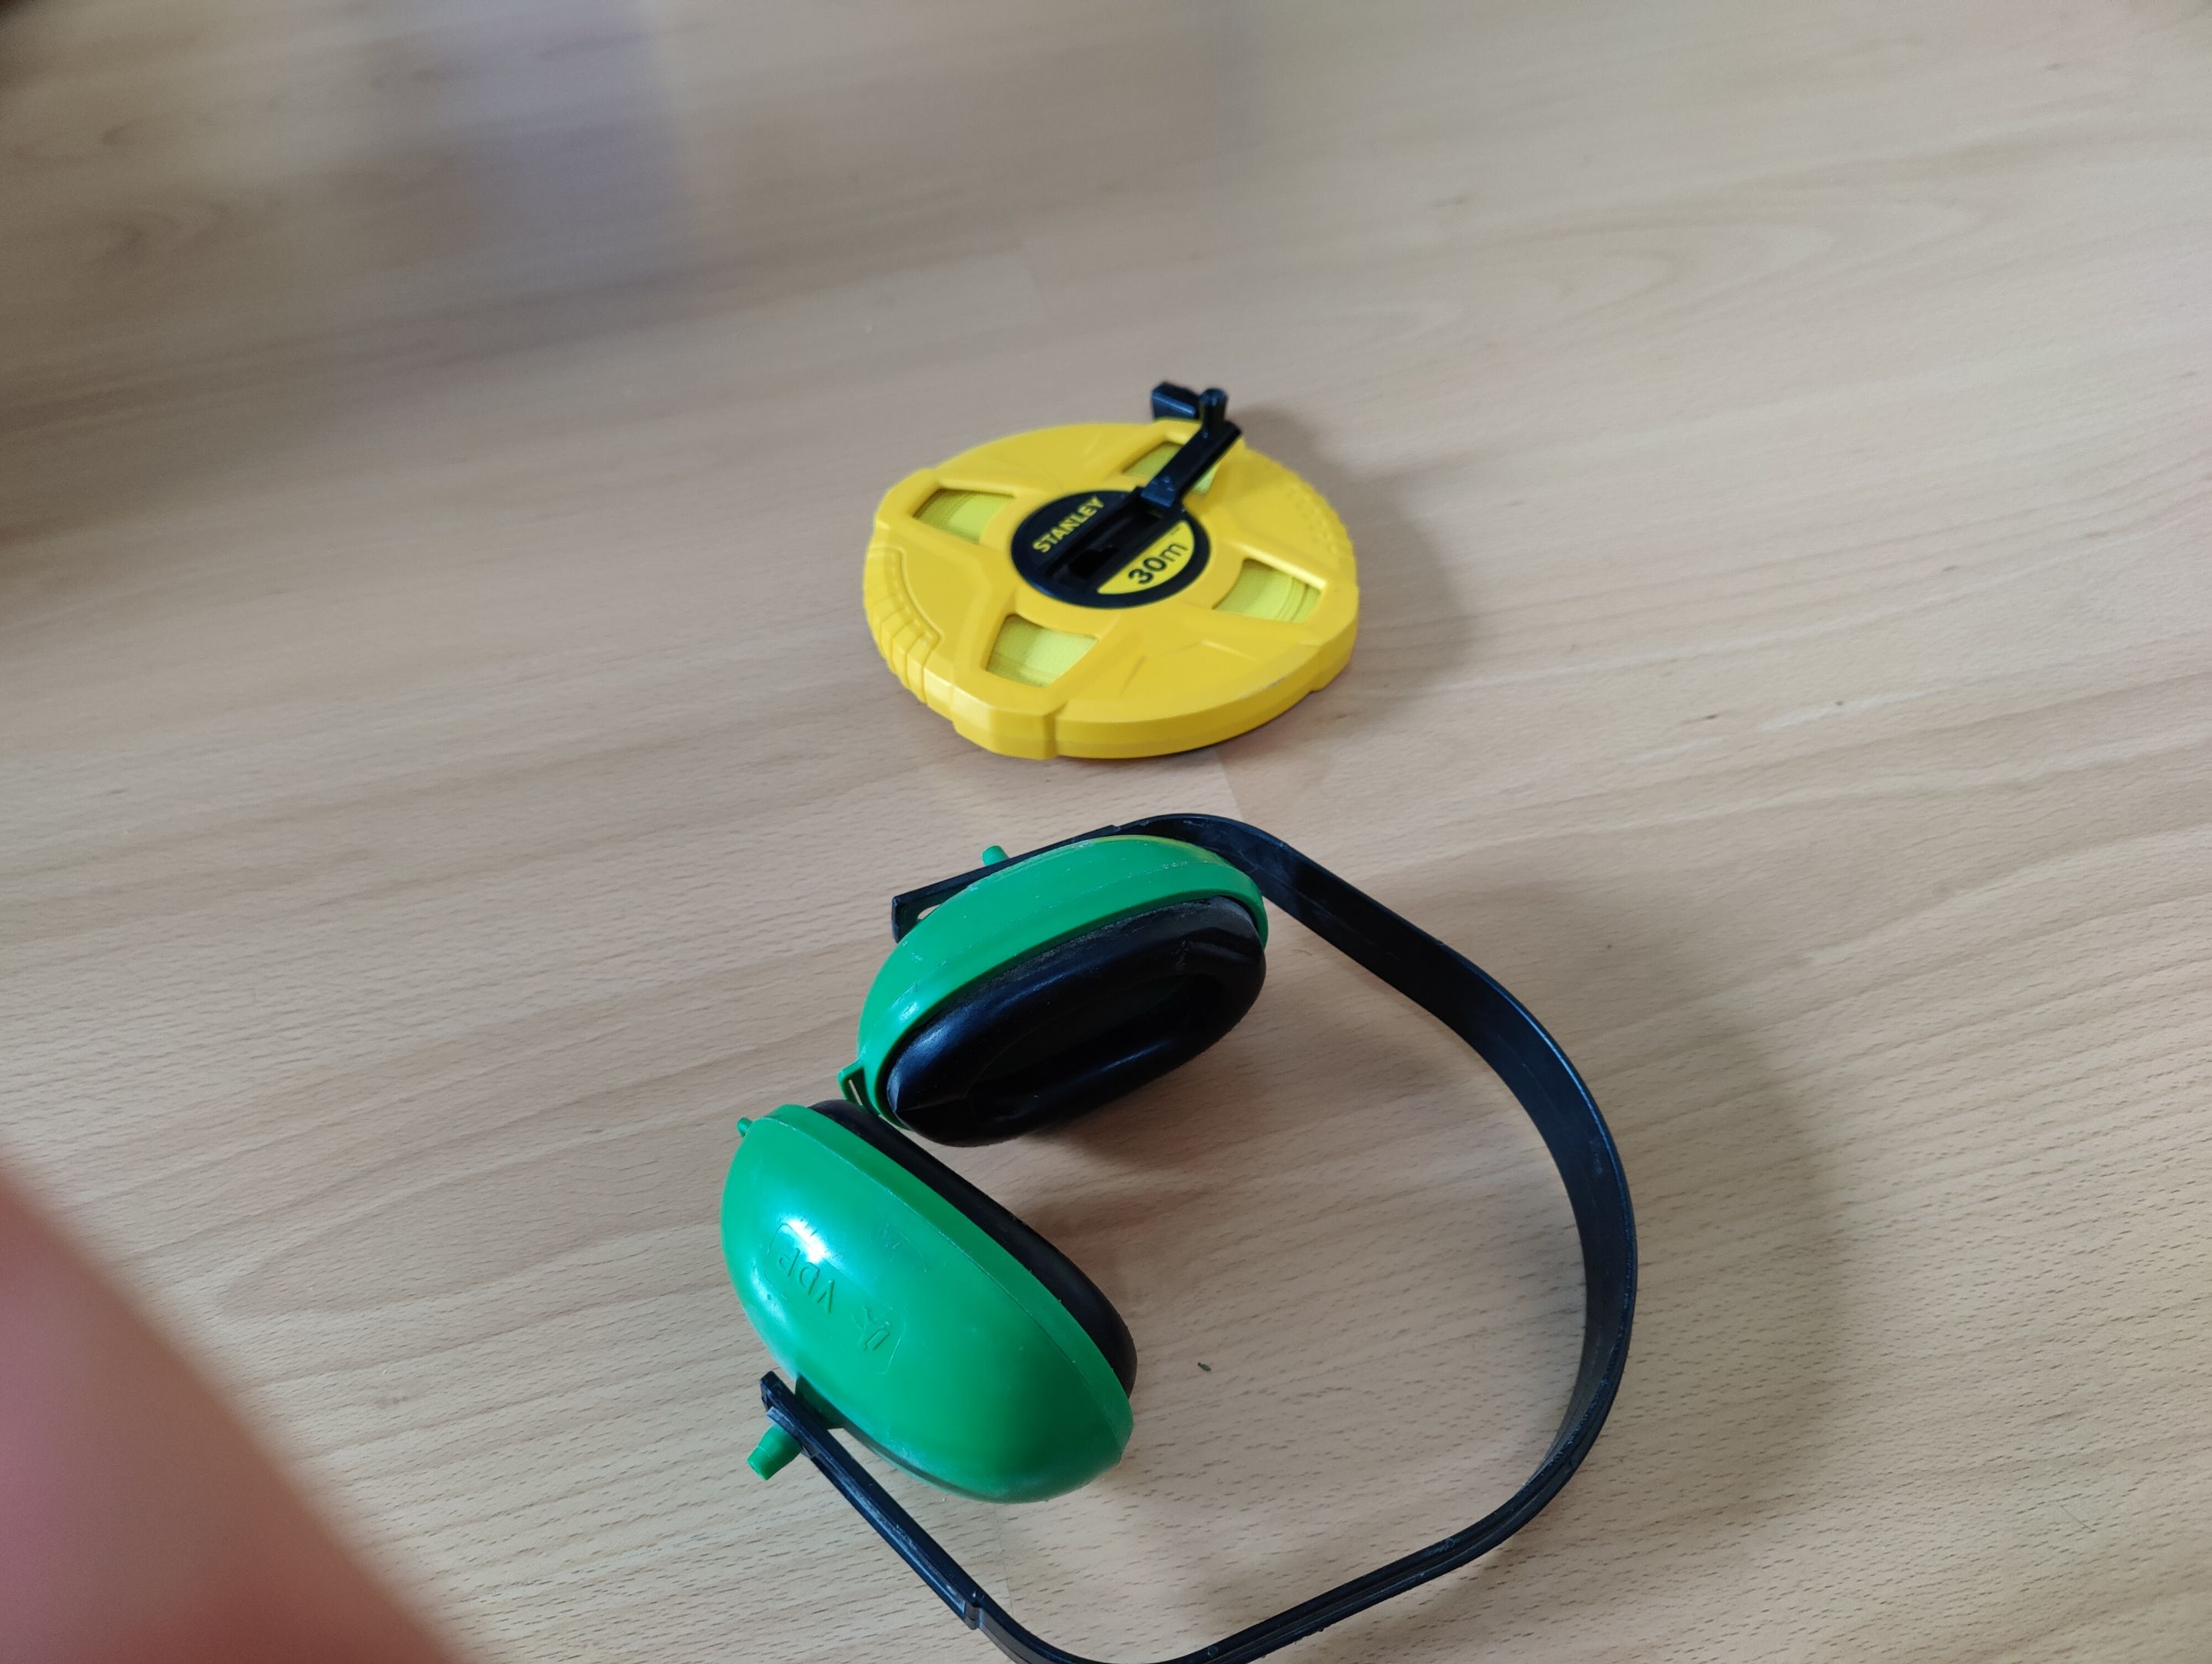headphones: (725, 811, 1648, 1650)
tapemeasure: (858, 393, 1361, 759)
